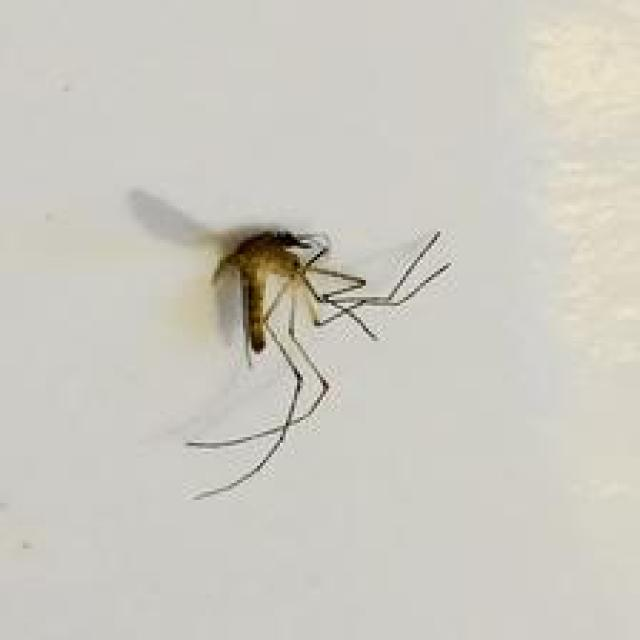Culex: (127, 187, 453, 502)
